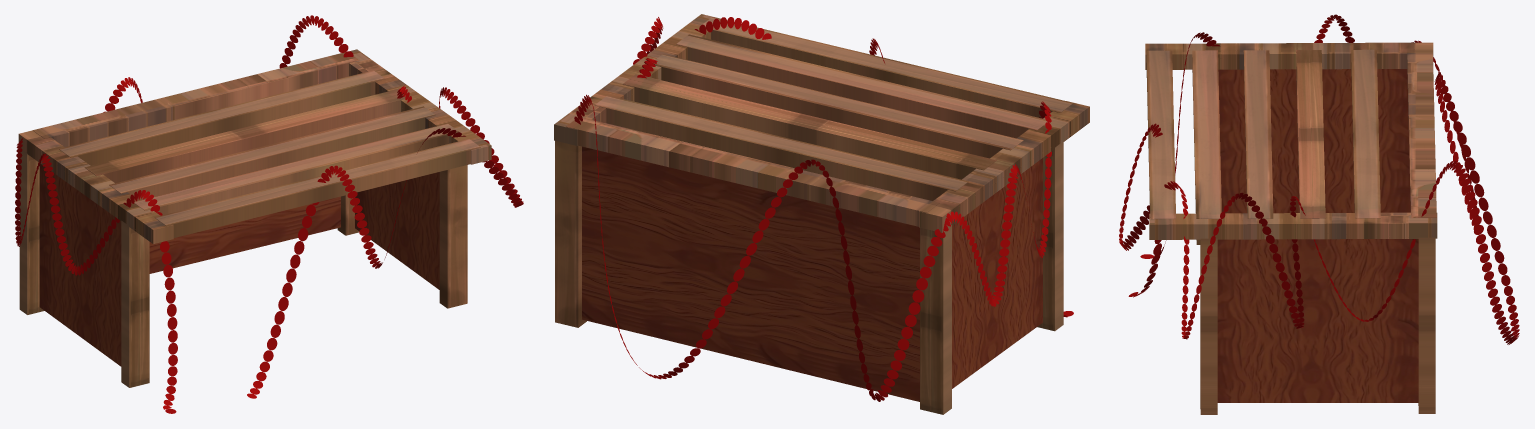
Rendered from pavellian.fbx.
The picture shows the model from 3 angles, left to right: view 1: azimuth 30°, elevation 25°; view 2: azimuth 150°, elevation 25°; view 3: azimuth 270°, elevation 25°; orthographic projection. The views are drawn at different scales.
Parts seen in each view (by area): view 1: pavelian, light; view 2: pavelian, light; view 3: pavelian, light.
Boxes of the visible parts, box(x1,y1,x2,y2) form: pavelian: box(18, 49, 491, 387); light: box(15, 15, 523, 413); pavelian: box(554, 14, 1089, 414); light: box(574, 17, 1073, 401); pavelian: box(1145, 42, 1437, 414); light: box(1119, 14, 1519, 344).
Size of the model in its own units: 295 by 153 by 226.
3 materials, 2 textured.
